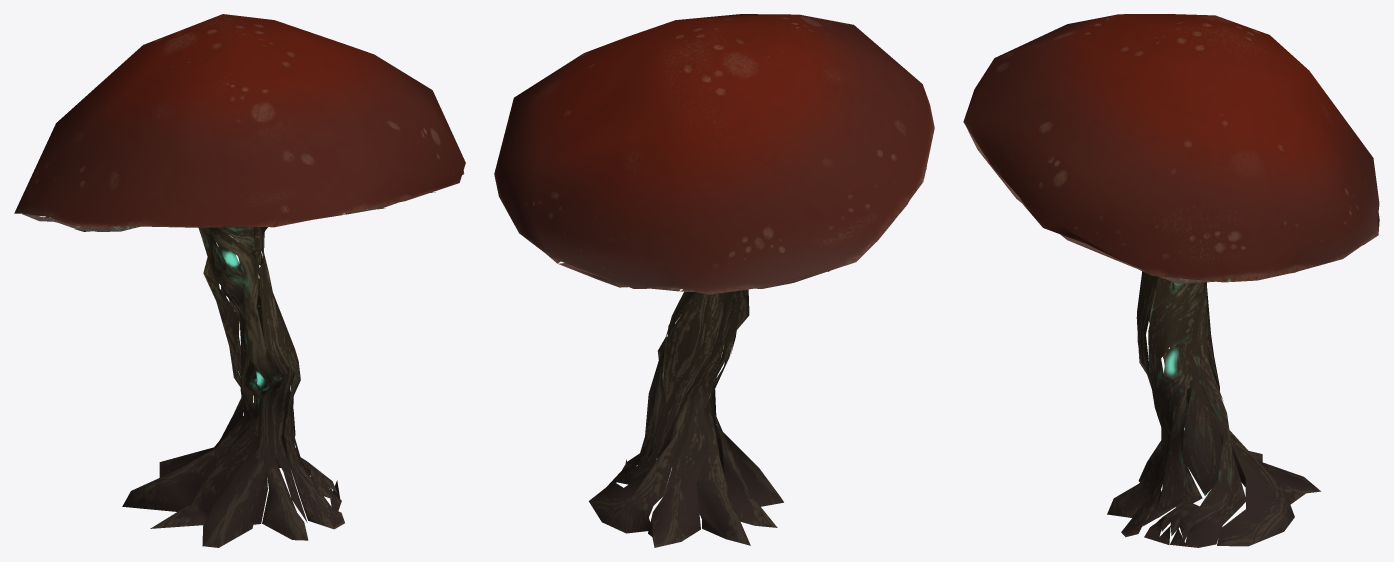
The model's file is new_tree.glb.
3 renders of one model, left to right at view 1: azimuth 30°, elevation 25°; view 2: azimuth 150°, elevation 25°; view 3: azimuth 270°, elevation 25°, orthographic. The views are drawn at different scales.
Visible parts, largest first — view 1: Plane.002_Mushroom_Tree_0; view 2: Plane.002_Mushroom_Tree_0; view 3: Plane.002_Mushroom_Tree_0.
Part boxes in pixels (x1,y1,x2,y2): Plane.002_Mushroom_Tree_0: (14, 14, 465, 547); Plane.002_Mushroom_Tree_0: (494, 14, 934, 547); Plane.002_Mushroom_Tree_0: (963, 14, 1379, 547).
Size of the model in its own units: 3.67 by 4.3 by 3.42.
1 material, 1 textured.
